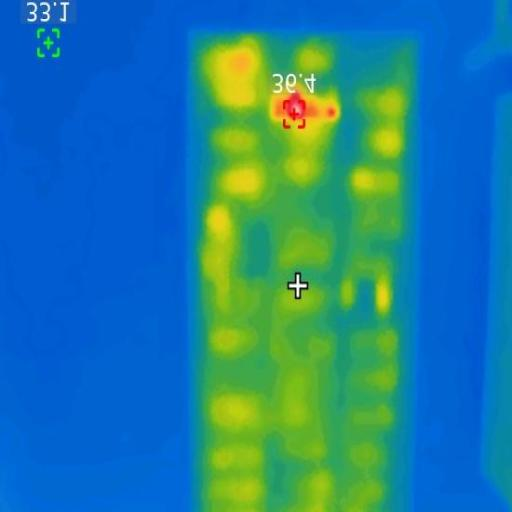hotspot: (275, 94, 339, 120)
